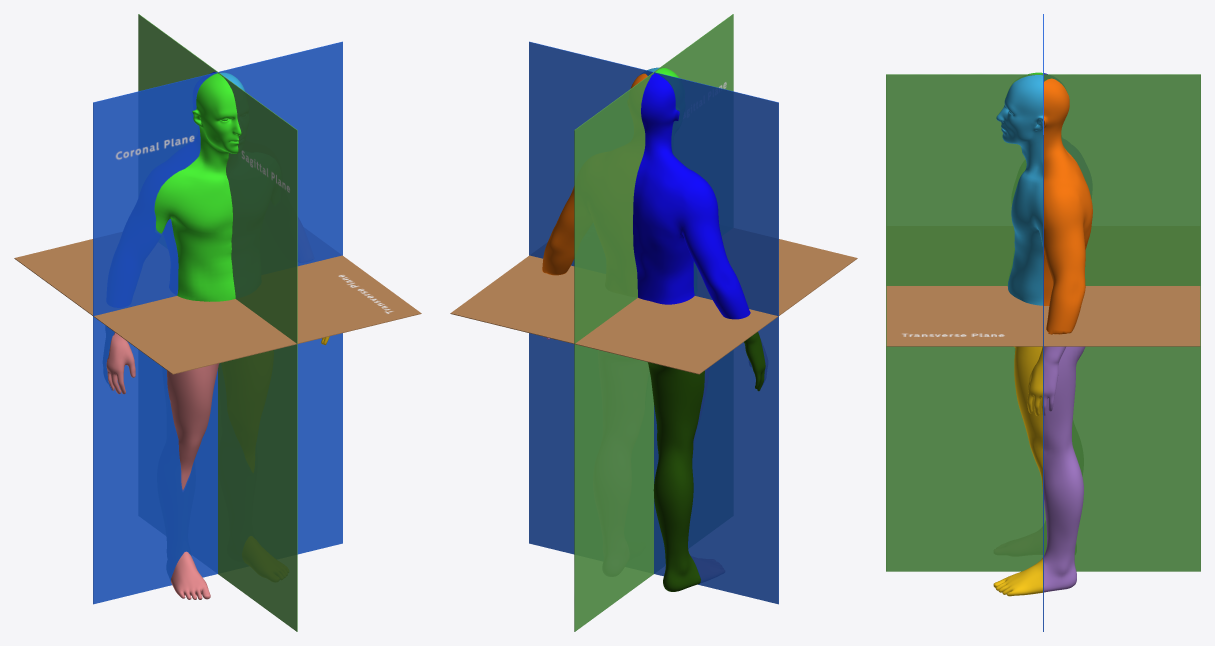
The model's file is page1.glb.
The picture shows the model from 3 angles, left to right: view 1: azimuth 30°, elevation 25°; view 2: azimuth 150°, elevation 25°; view 3: azimuth 270°, elevation 25°; orthographic projection.
Visible parts, largest first — view 1: BodyPlanes; view 2: BodyPlanes; view 3: BodyPlanes.
Boxes of the visible parts, x1,y1,x2,y2 form: BodyPlanes: (14, 14, 421, 631); BodyPlanes: (450, 14, 857, 631); BodyPlanes: (886, 14, 1200, 631).
Size of the model in its own units: 0.3753 by 0.7209 by 0.413.
Materials: 11 (3 with a texture image).
